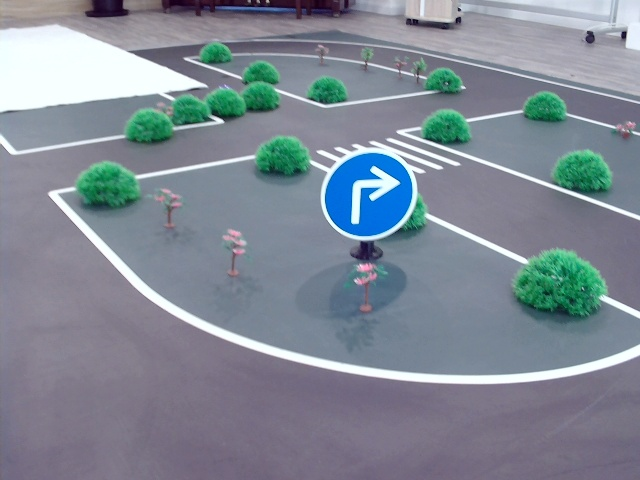turn_right: (343, 164, 395, 226)
